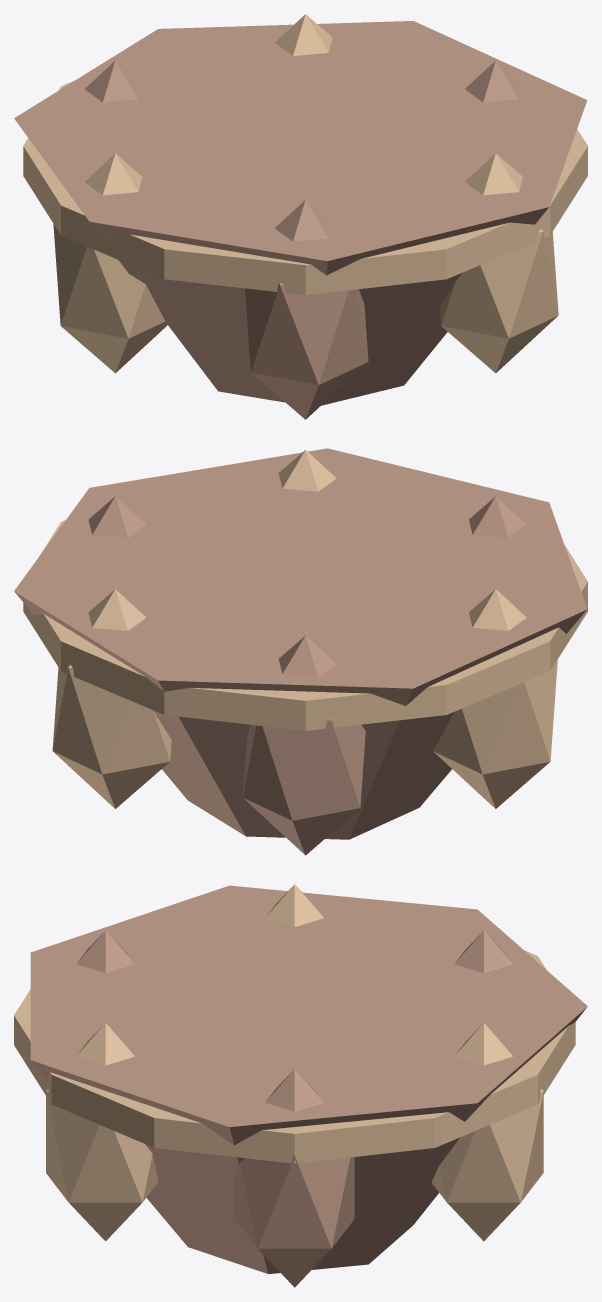
3 views of the same model, one above another, from view 1: azimuth 30°, elevation 25°; view 2: azimuth 150°, elevation 25°; view 3: azimuth 270°, elevation 25° (orthographic).
Visible parts, largest first — view 1: ai_export.010; view 2: ai_export.010; view 3: ai_export.010.
Part boxes in pixels (x1,y1,x2,y2): ai_export.010: (14, 14, 587, 419); ai_export.010: (14, 448, 587, 855); ai_export.010: (14, 884, 587, 1287).
Size of the model in its own units: 2.6 by 1.25 by 2.61.
